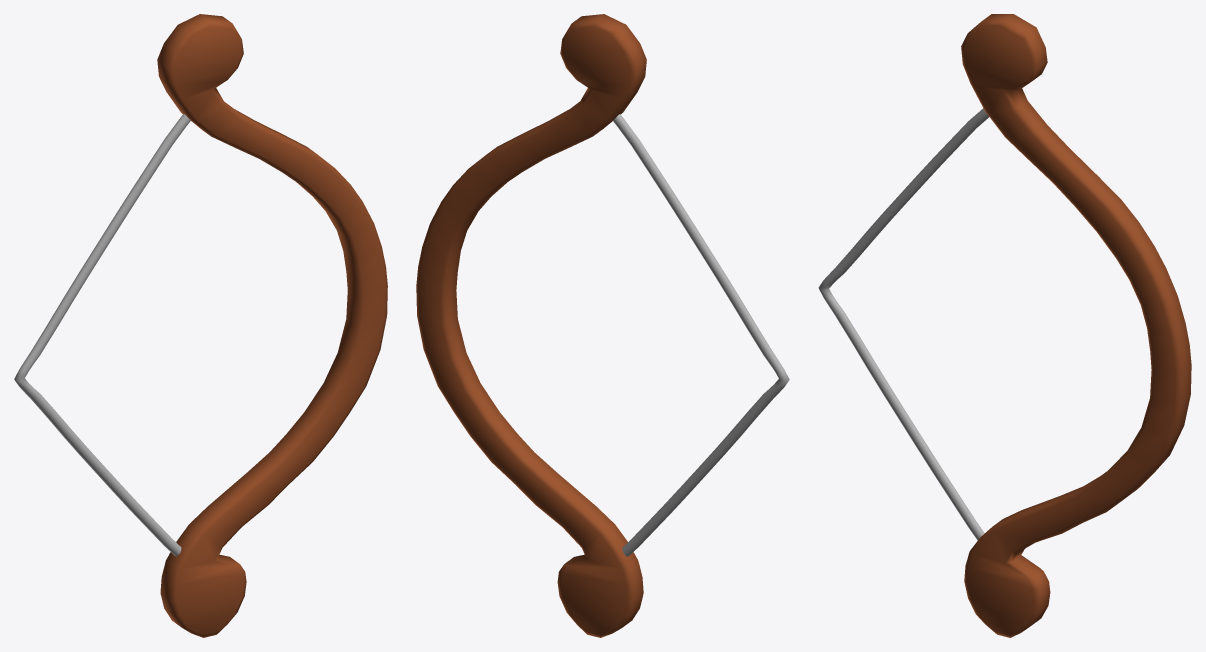
File: Bow.fbx
The picture shows the model from 3 angles, left to right: view 1: azimuth 30°, elevation 25°; view 2: azimuth 150°, elevation 25°; view 3: azimuth 330°, elevation 25°; orthographic projection.
Visible parts, largest first — view 1: Bow; view 2: Bow; view 3: Bow.
Boxes of the visible parts, box(x1,y1,x2,y2) form: Bow: box(14, 14, 387, 637); Bow: box(416, 14, 789, 637); Bow: box(818, 14, 1191, 637).
Bounding box in the file's own units: 145 × 231 × 8.95.
